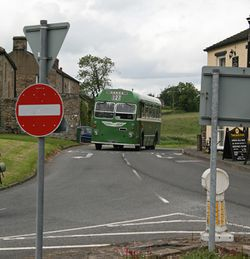No_entry: (15, 83, 64, 139)
